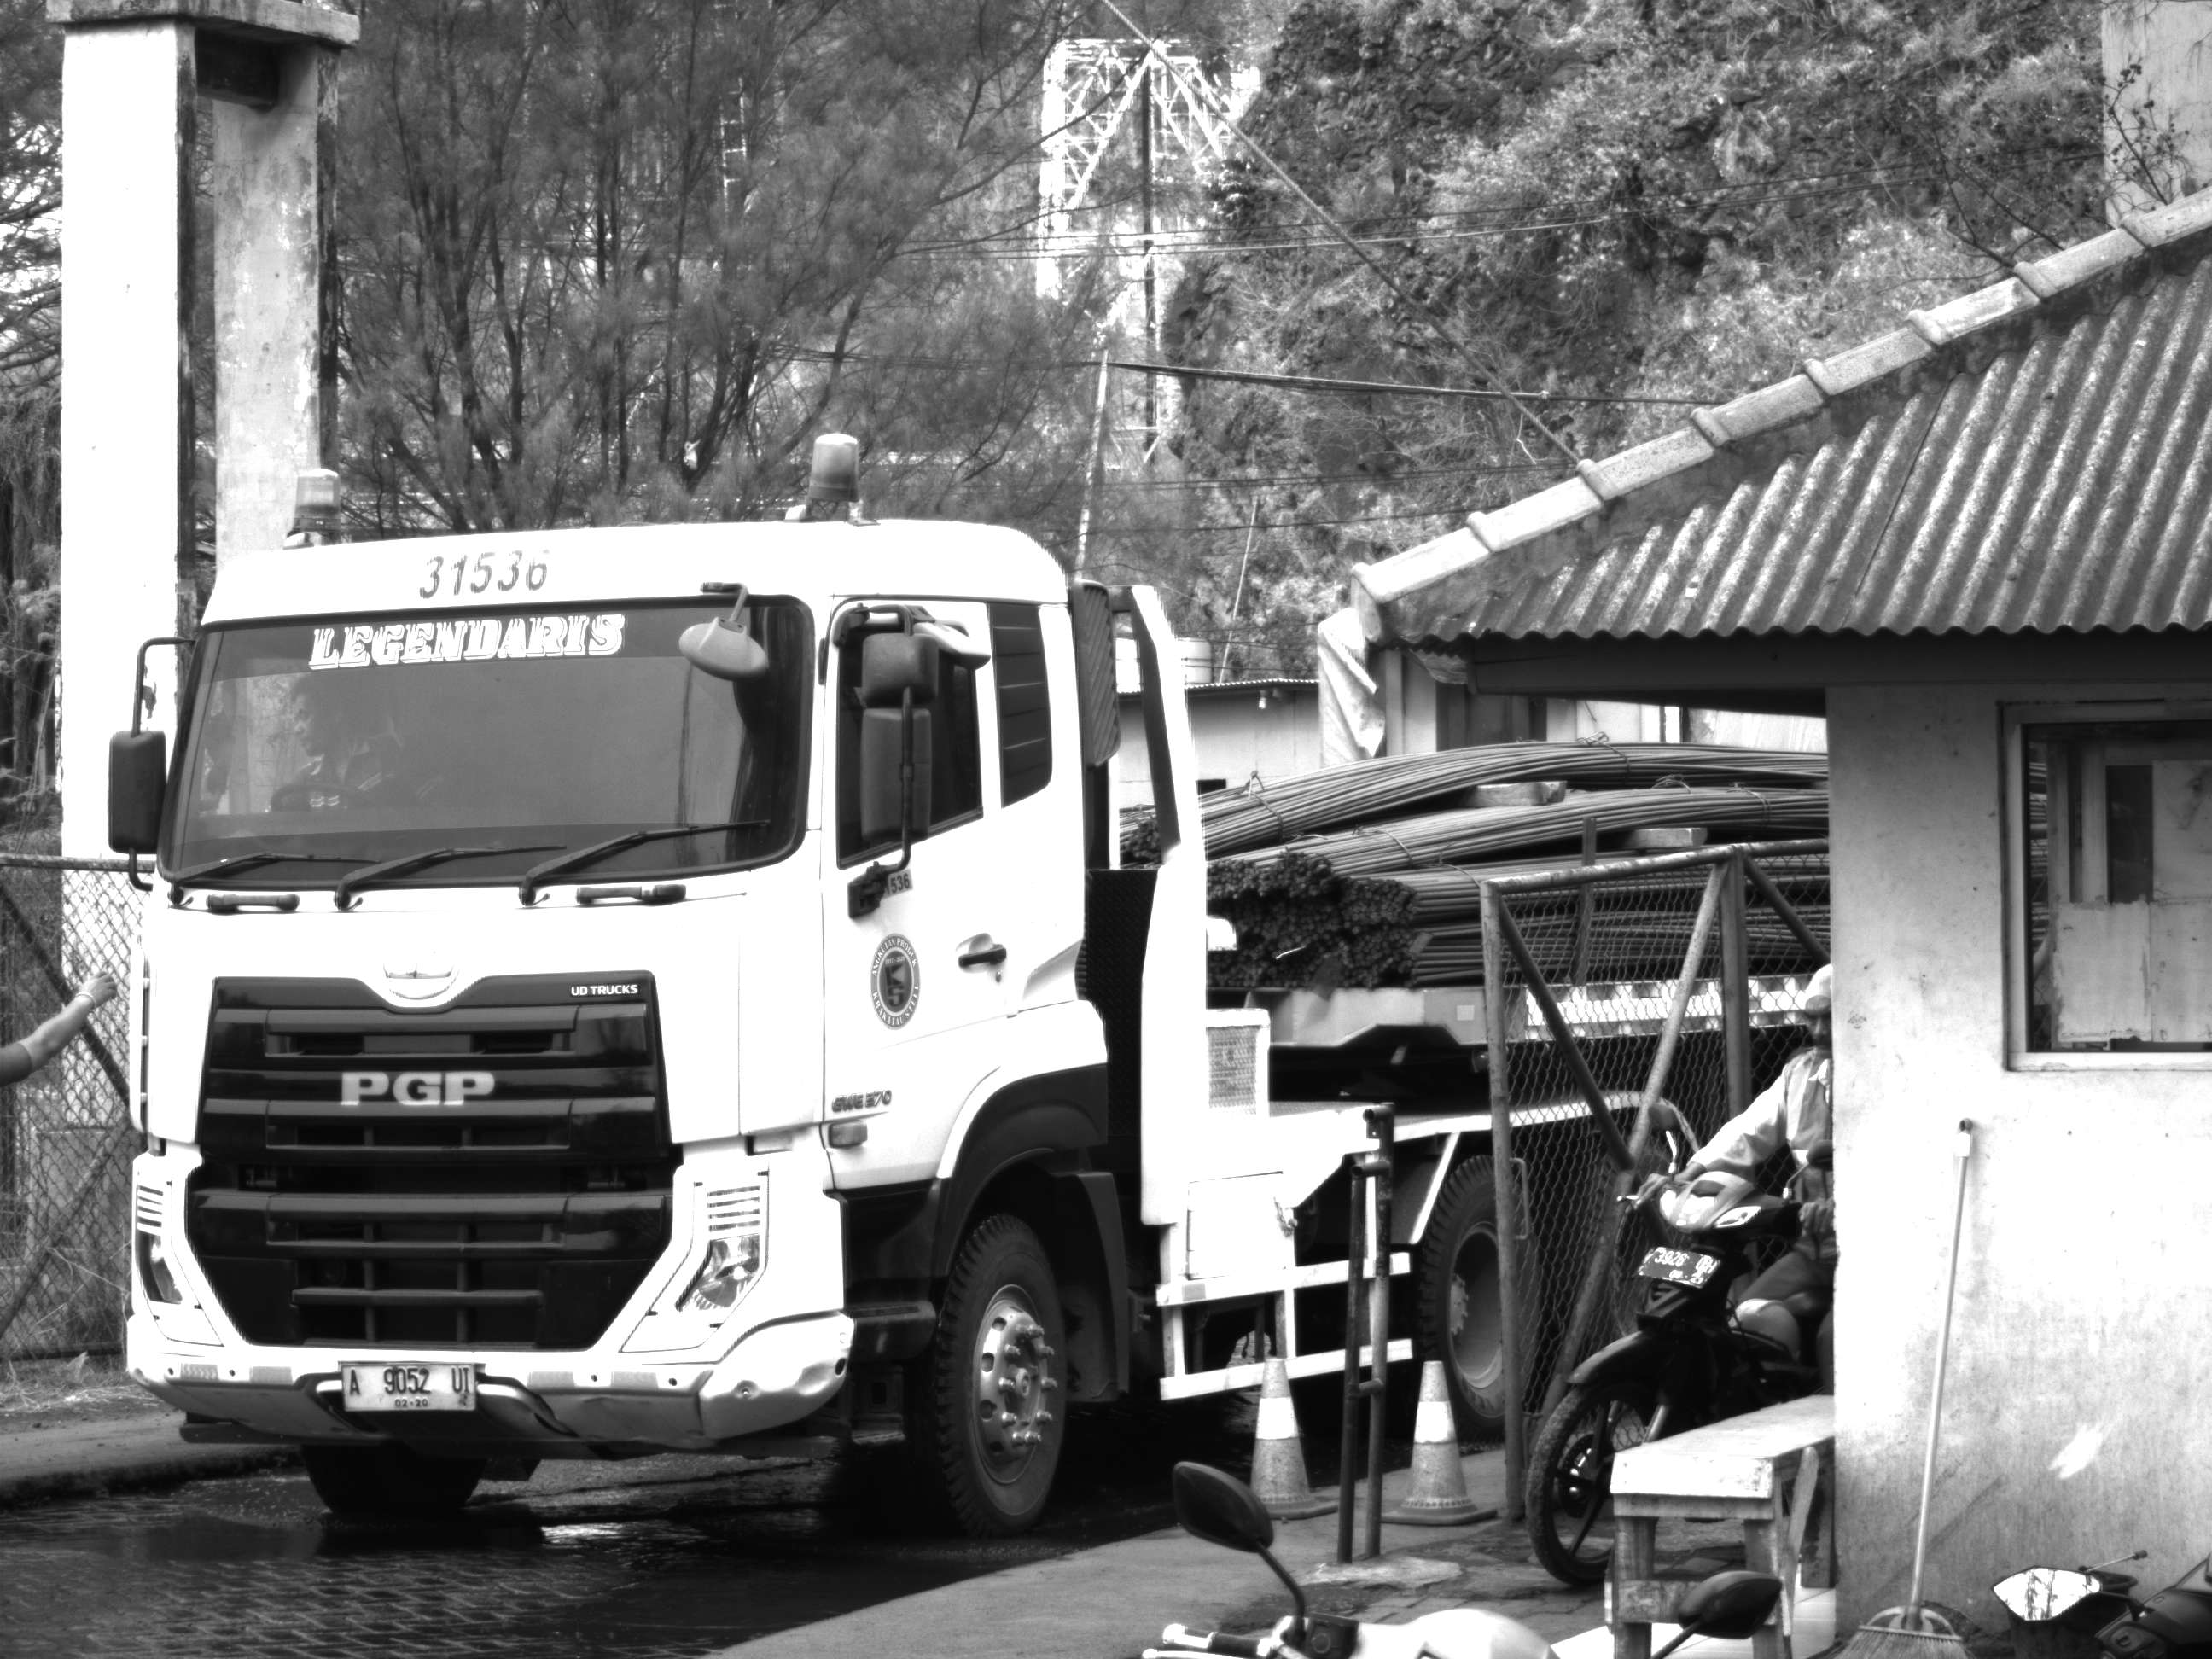day_truck_front: (90, 522, 1168, 1545)
plate: (338, 1359, 480, 1415)
